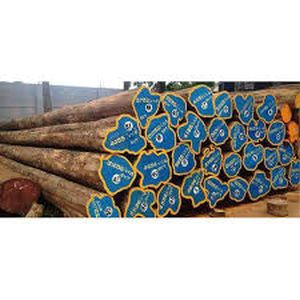log: (277, 102, 294, 125), (285, 120, 299, 142)
